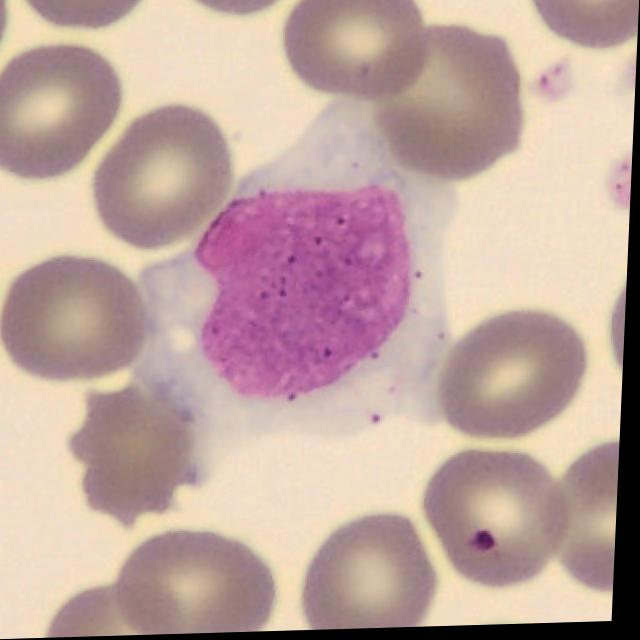Monocito: (134, 99, 462, 494)
